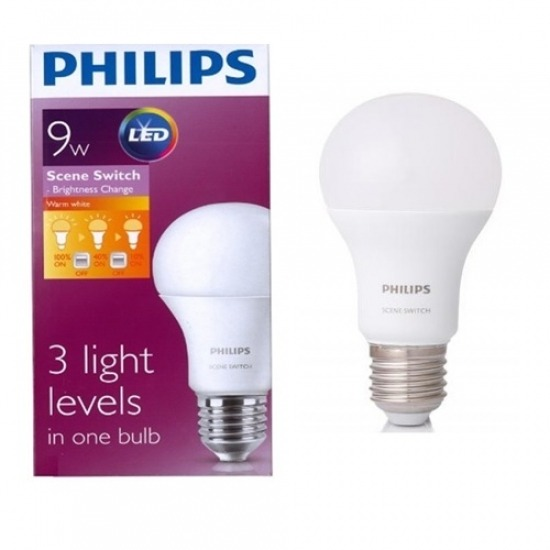Light_bulb: (317, 88, 502, 441)
